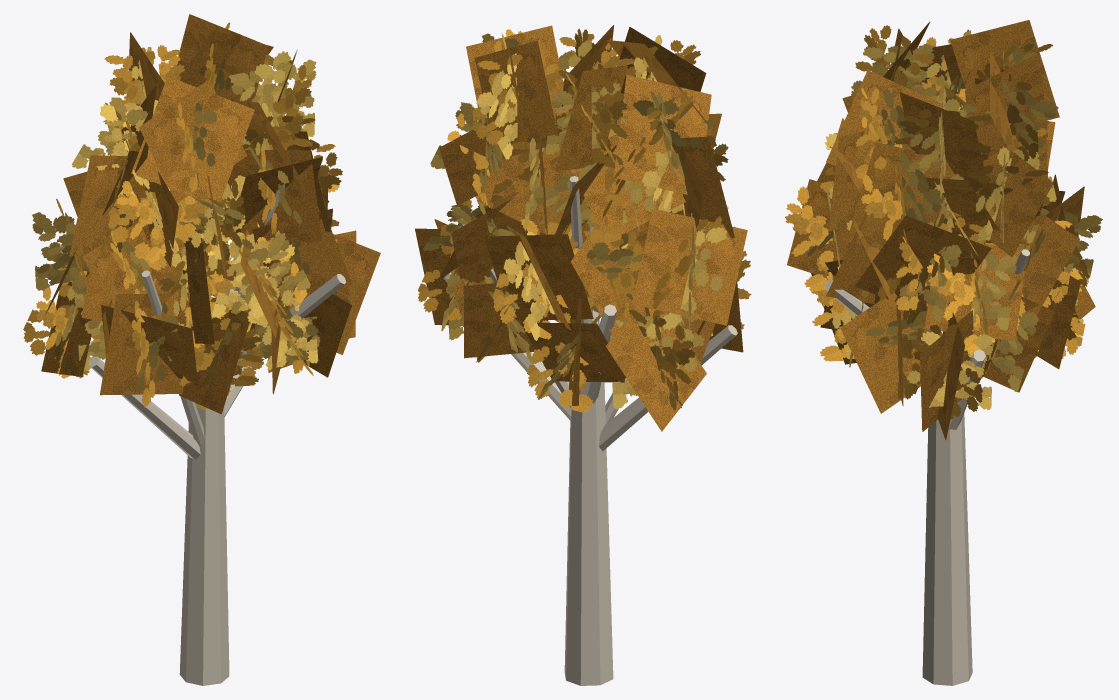
Rendered from CottonWood_Yellow.glb.
3 renders of one model, left to right at view 1: azimuth 30°, elevation 25°; view 2: azimuth 150°, elevation 25°; view 3: azimuth 270°, elevation 25°, orthographic. The views are drawn at different scales.
Visible parts, largest first — view 1: Trunk, FoliageCard_33_03, FoliageCard_06_00, FoliageCard_27_03, FoliageCard_33_00, FoliageCard_24_00, FoliageCard_07_02, FoliageCard_30_03, FoliageCard_06_03, FoliageCard_00_03, FoliageCard_18_03, FoliageCard_14_03 (+52 smaller); view 2: Trunk, FoliageCard_14_01, FoliageCard_32_01, FoliageCard_04_02, FoliageCard_12_00, FoliageCard_30_00, FoliageCard_21_00, FoliageCard_03_00, FoliageCard_31_02, FoliageCard_02_01, FoliageCard_23_01, FoliageCard_11_01 (+50 smaller); view 3: Trunk, FoliageCard_09_03, FoliageCard_19_02, FoliageCard_20_01, FoliageCard_28_02, FoliageCard_31_02, FoliageCard_11_01, FoliageCard_30_03, FoliageCard_35_01, FoliageCard_10_02, FoliageCard_34_02, FoliageCard_00_03 (+41 smaller).
Part boxes in pixels (x1,y1,x2,y2): Trunk: [179, 403, 229, 685]; FoliageCard_33_03: [131, 76, 254, 206]; FoliageCard_06_00: [100, 293, 189, 395]; FoliageCard_27_03: [233, 150, 321, 241]; FoliageCard_33_00: [139, 79, 246, 203]; FoliageCard_24_00: [69, 155, 127, 256]; FoliageCard_07_02: [179, 297, 249, 414]; FoliageCard_30_03: [176, 14, 268, 101]; FoliageCard_06_03: [101, 305, 197, 382]; FoliageCard_00_03: [333, 234, 380, 354]; FoliageCard_18_03: [240, 205, 351, 302]; FoliageCard_14_03: [32, 212, 89, 294]; Trunk: [564, 382, 613, 685]; FoliageCard_14_01: [632, 209, 747, 325]; FoliageCard_32_01: [613, 75, 711, 194]; FoliageCard_04_02: [606, 305, 706, 431]; FoliageCard_12_00: [484, 234, 593, 320]; FoliageCard_30_00: [474, 40, 558, 158]; FoliageCard_21_00: [477, 126, 572, 234]; FoliageCard_03_00: [520, 322, 625, 382]; FoliageCard_31_02: [555, 65, 627, 171]; FoliageCard_02_01: [463, 283, 547, 358]; FoliageCard_23_01: [570, 134, 685, 235]; FoliageCard_11_01: [451, 199, 527, 283]; Trunk: [922, 413, 972, 685]; FoliageCard_09_03: [840, 298, 942, 413]; FoliageCard_19_02: [854, 215, 991, 311]; FoliageCard_20_01: [975, 135, 1053, 257]; FoliageCard_28_02: [846, 142, 955, 248]; FoliageCard_31_02: [950, 20, 1059, 120]; FoliageCard_11_01: [1019, 212, 1079, 317]; FoliageCard_30_03: [965, 53, 1047, 152]; FoliageCard_35_01: [899, 92, 987, 186]; FoliageCard_10_02: [924, 244, 1025, 340]; FoliageCard_34_02: [826, 70, 941, 174]; FoliageCard_00_03: [920, 310, 973, 431].
Size of the model in its own units: 4.97 by 9.28 by 4.28.
Materials: 5 (3 with a texture image).
